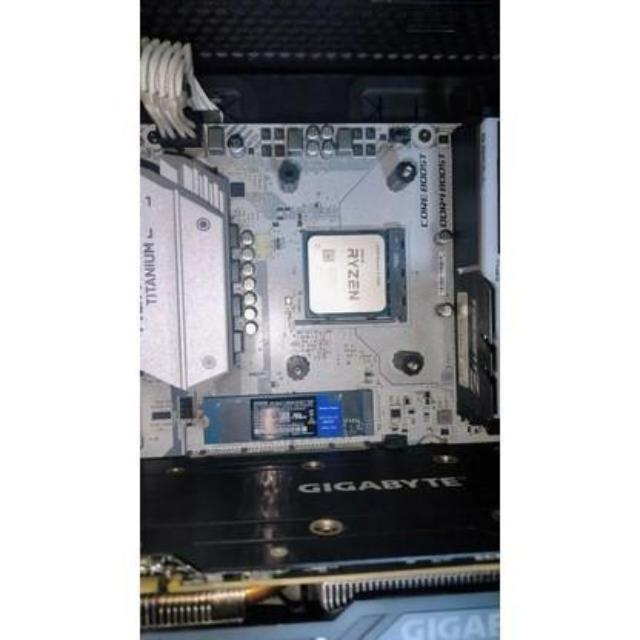CPU: (303, 234, 389, 322)
